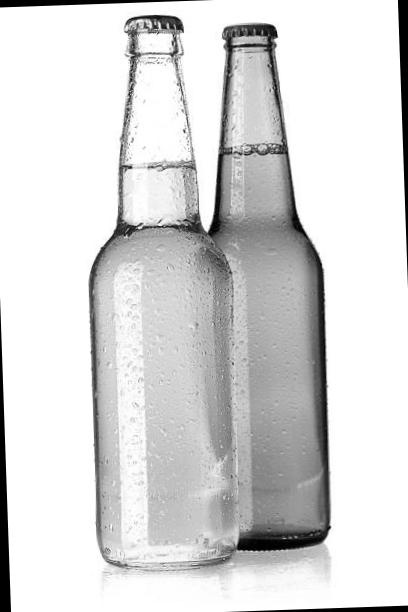glass: (42, 0, 242, 576), (169, 6, 376, 554)
